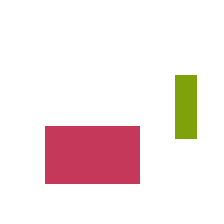rectangle: (45, 126, 139, 183), (175, 75, 196, 138)
